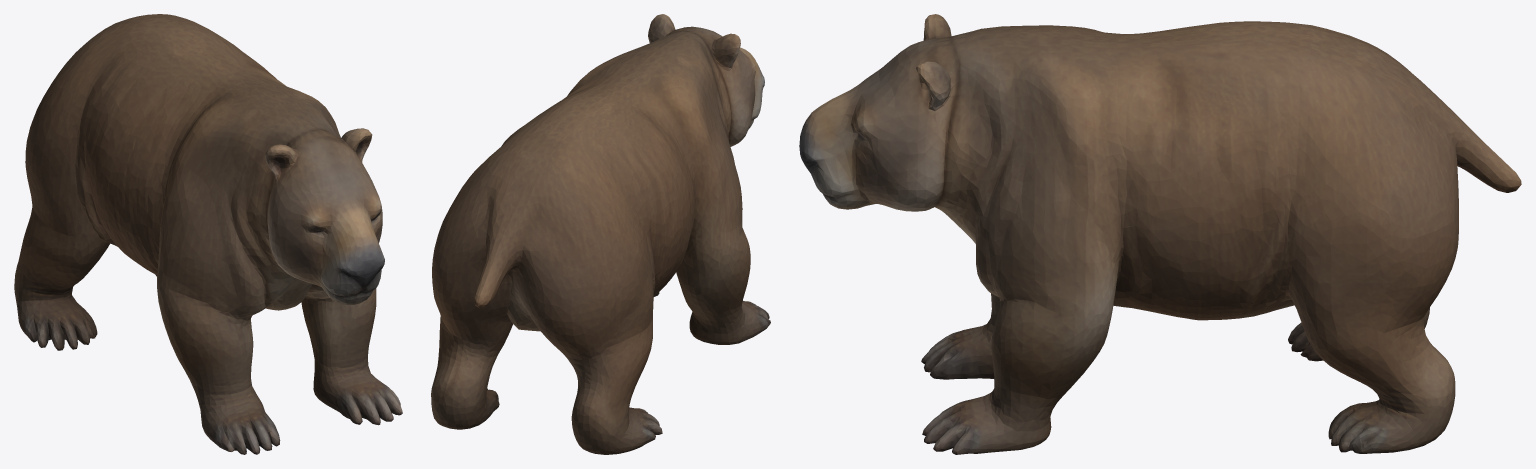
The picture shows the model from 3 angles, left to right: view 1: azimuth 30°, elevation 25°; view 2: azimuth 150°, elevation 25°; view 3: azimuth 270°, elevation 25°; orthographic projection. The views are drawn at different scales.
Parts seen in each view (by area): view 1: world; view 2: world; view 3: world.
Part boxes in pixels (box(x1,y1,x2,y2)): world: box(14, 14, 402, 454); world: box(431, 14, 770, 454); world: box(799, 14, 1521, 454).
Size of the model in its own units: 1.48 by 1.93 by 3.4.
Materials: 1 (1 with a texture image).
